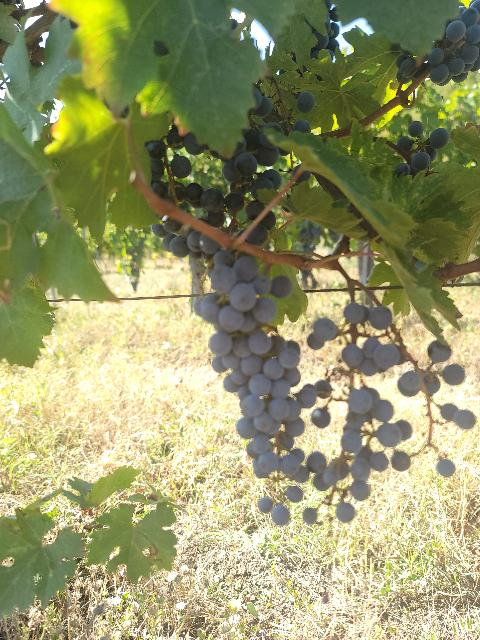grapes: (311, 301, 476, 521), (196, 250, 316, 479), (396, 0, 480, 86)
